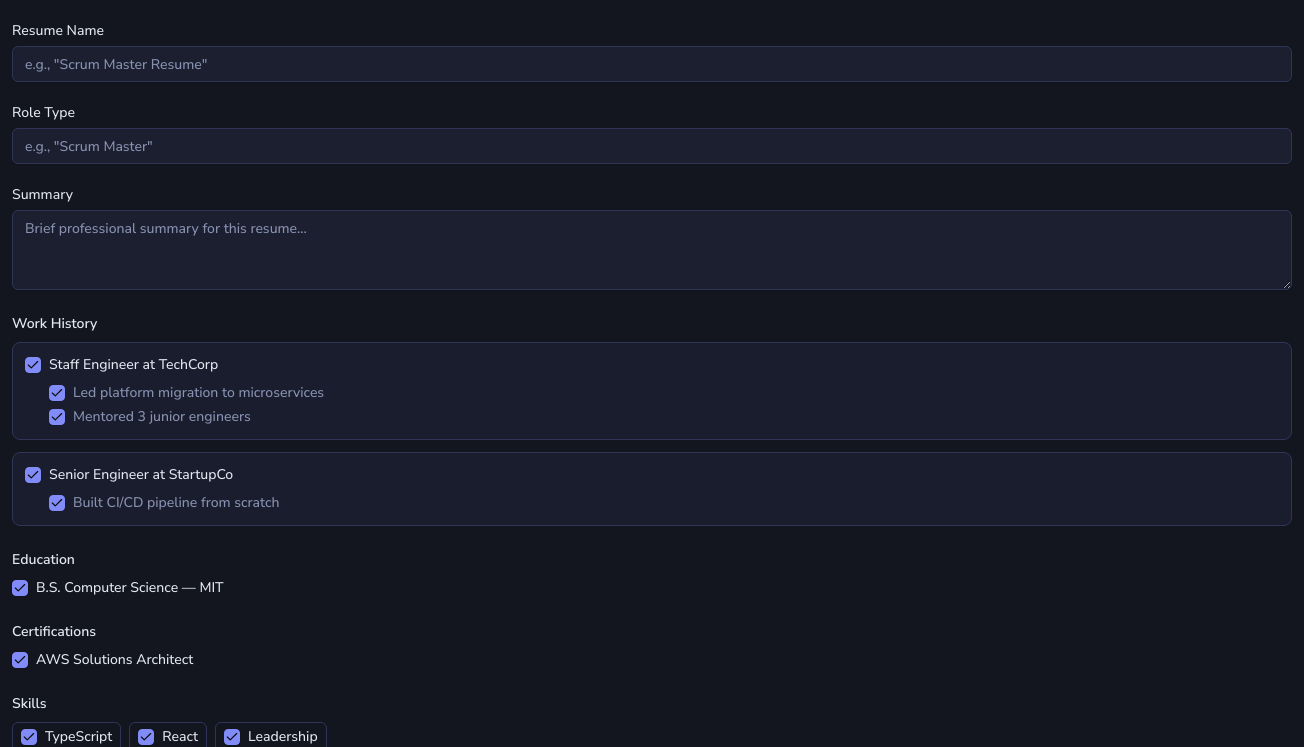
it: BaseResumeSetupStep › submission › disables submit button and shows Creating text while submitting
Step 1. Type "Scrum Master Resume" into the field labelled "Resume Name" → x=652, y=64, box [12,46,1292,82]
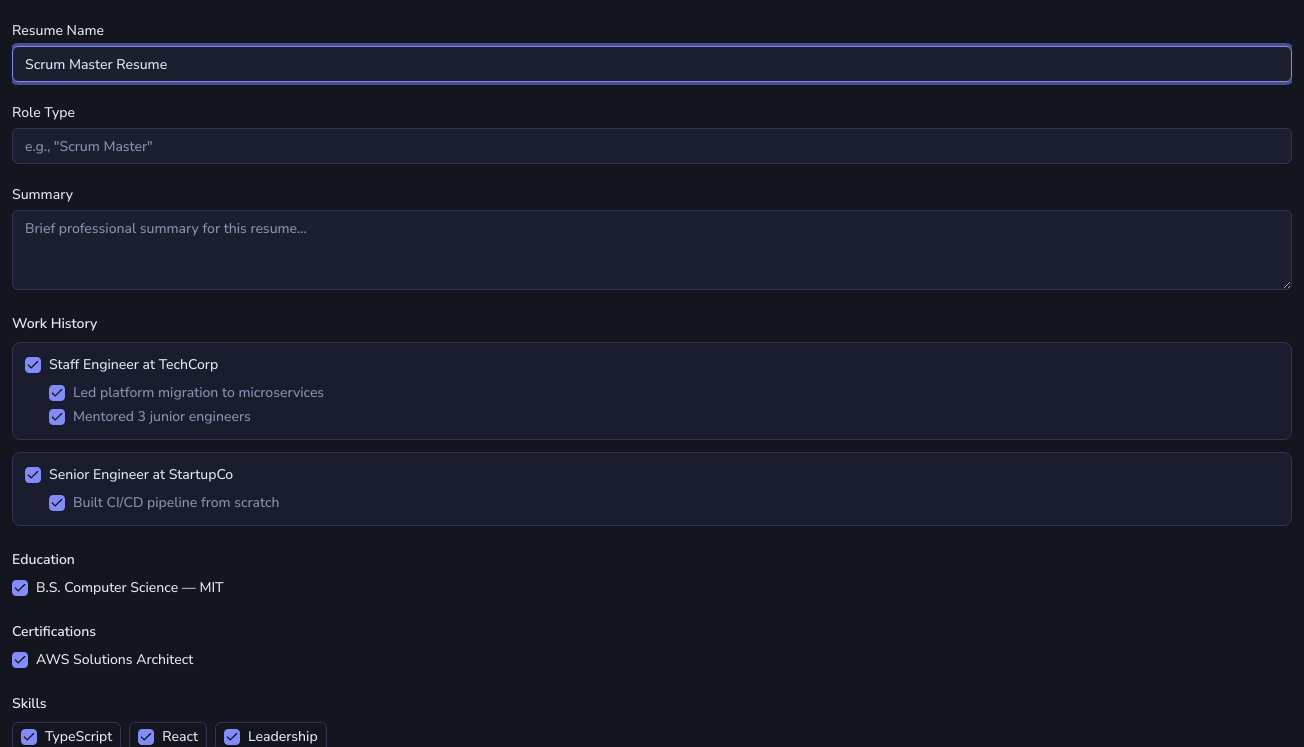
Step 2. Type "Scrum Master" into the field labelled "Role Type" → x=652, y=146, box [12,128,1292,164]
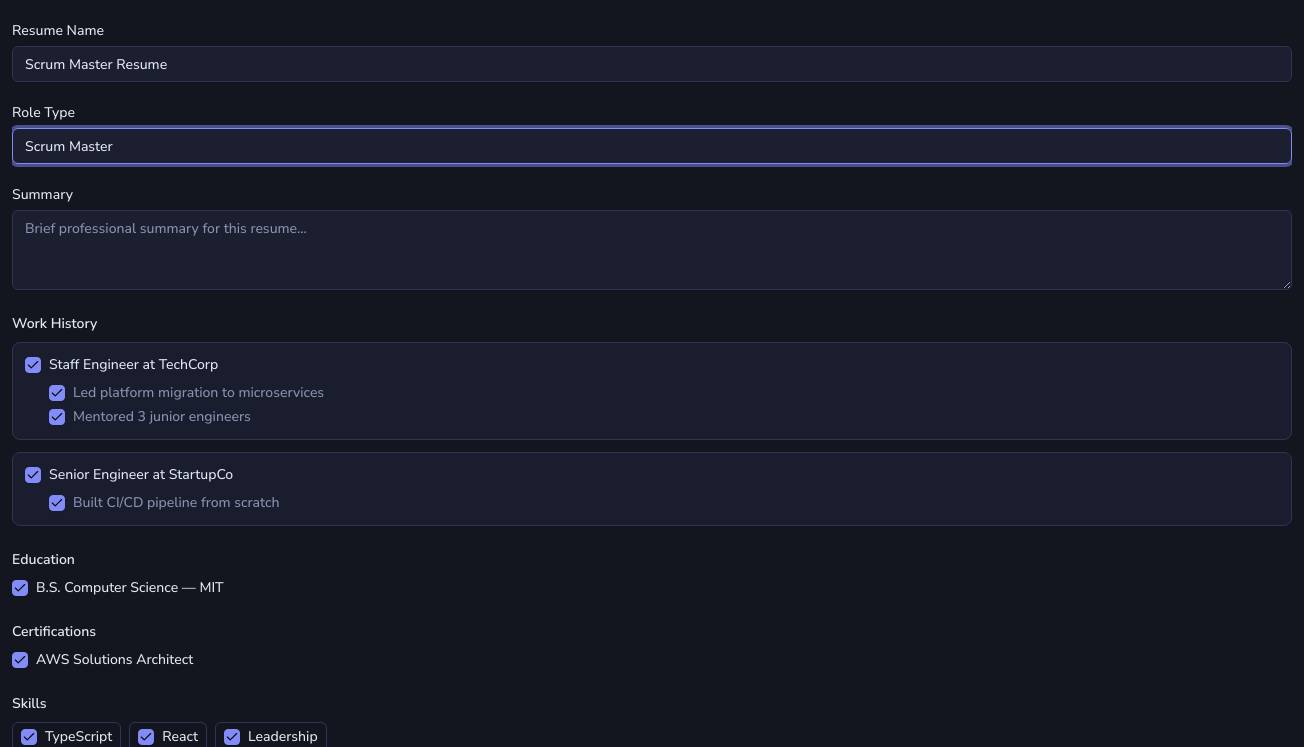
Step 3. Type "Experienced agile leader with 8 years of experience" into the text box labelled "Summary" → x=652, y=250, box [12,210,1292,290]
(page scrolled)
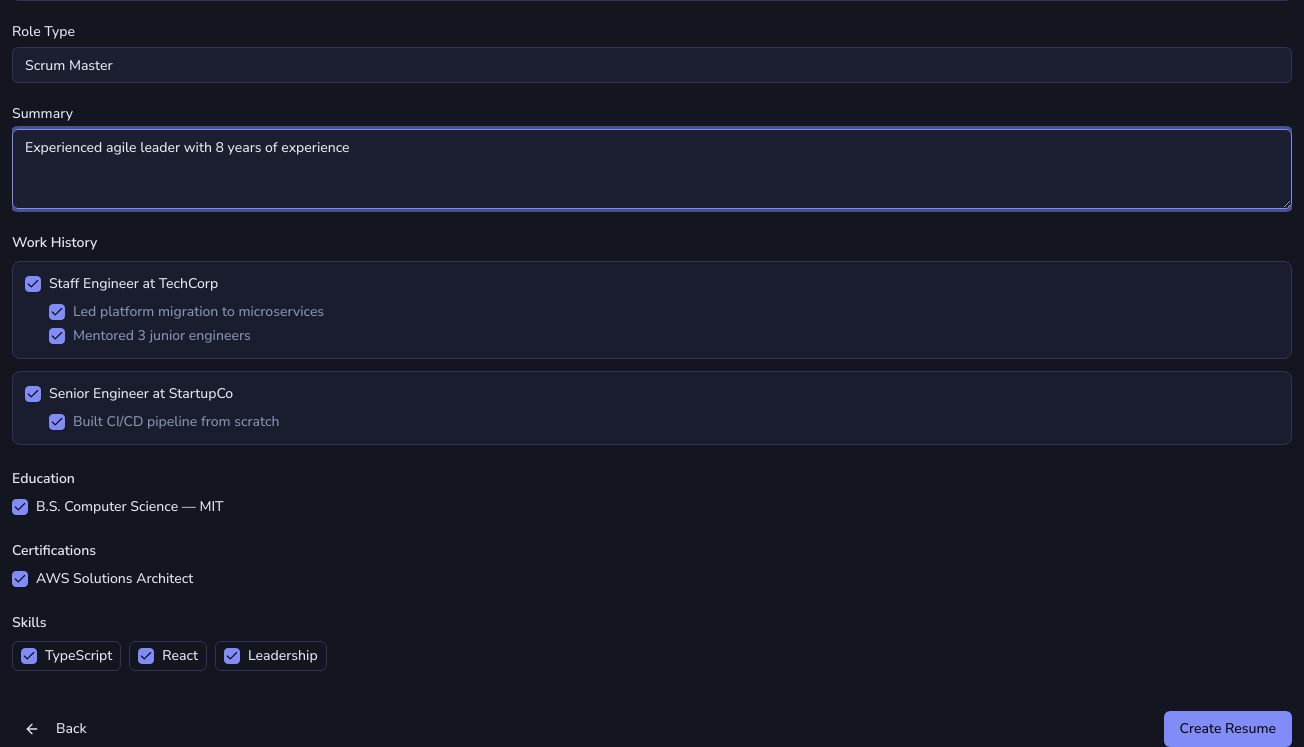
Step 4. Click the button with test id "submit-button" → x=1228, y=729, box [1164,711,1292,746]
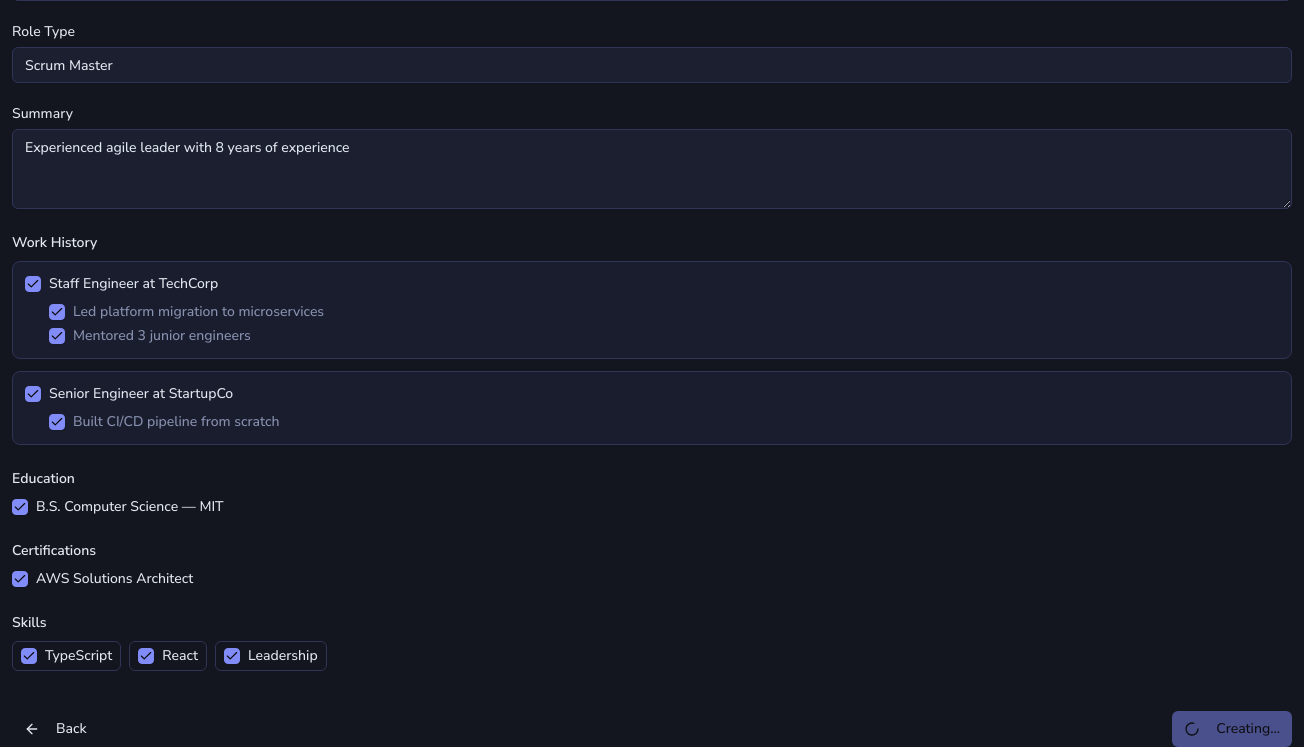
Now the button with test id "submit-button" is disabled, box [1172,711,1292,746]
Now the button with test id "submit-button" reads "Creating...", box [1172,711,1292,746]
